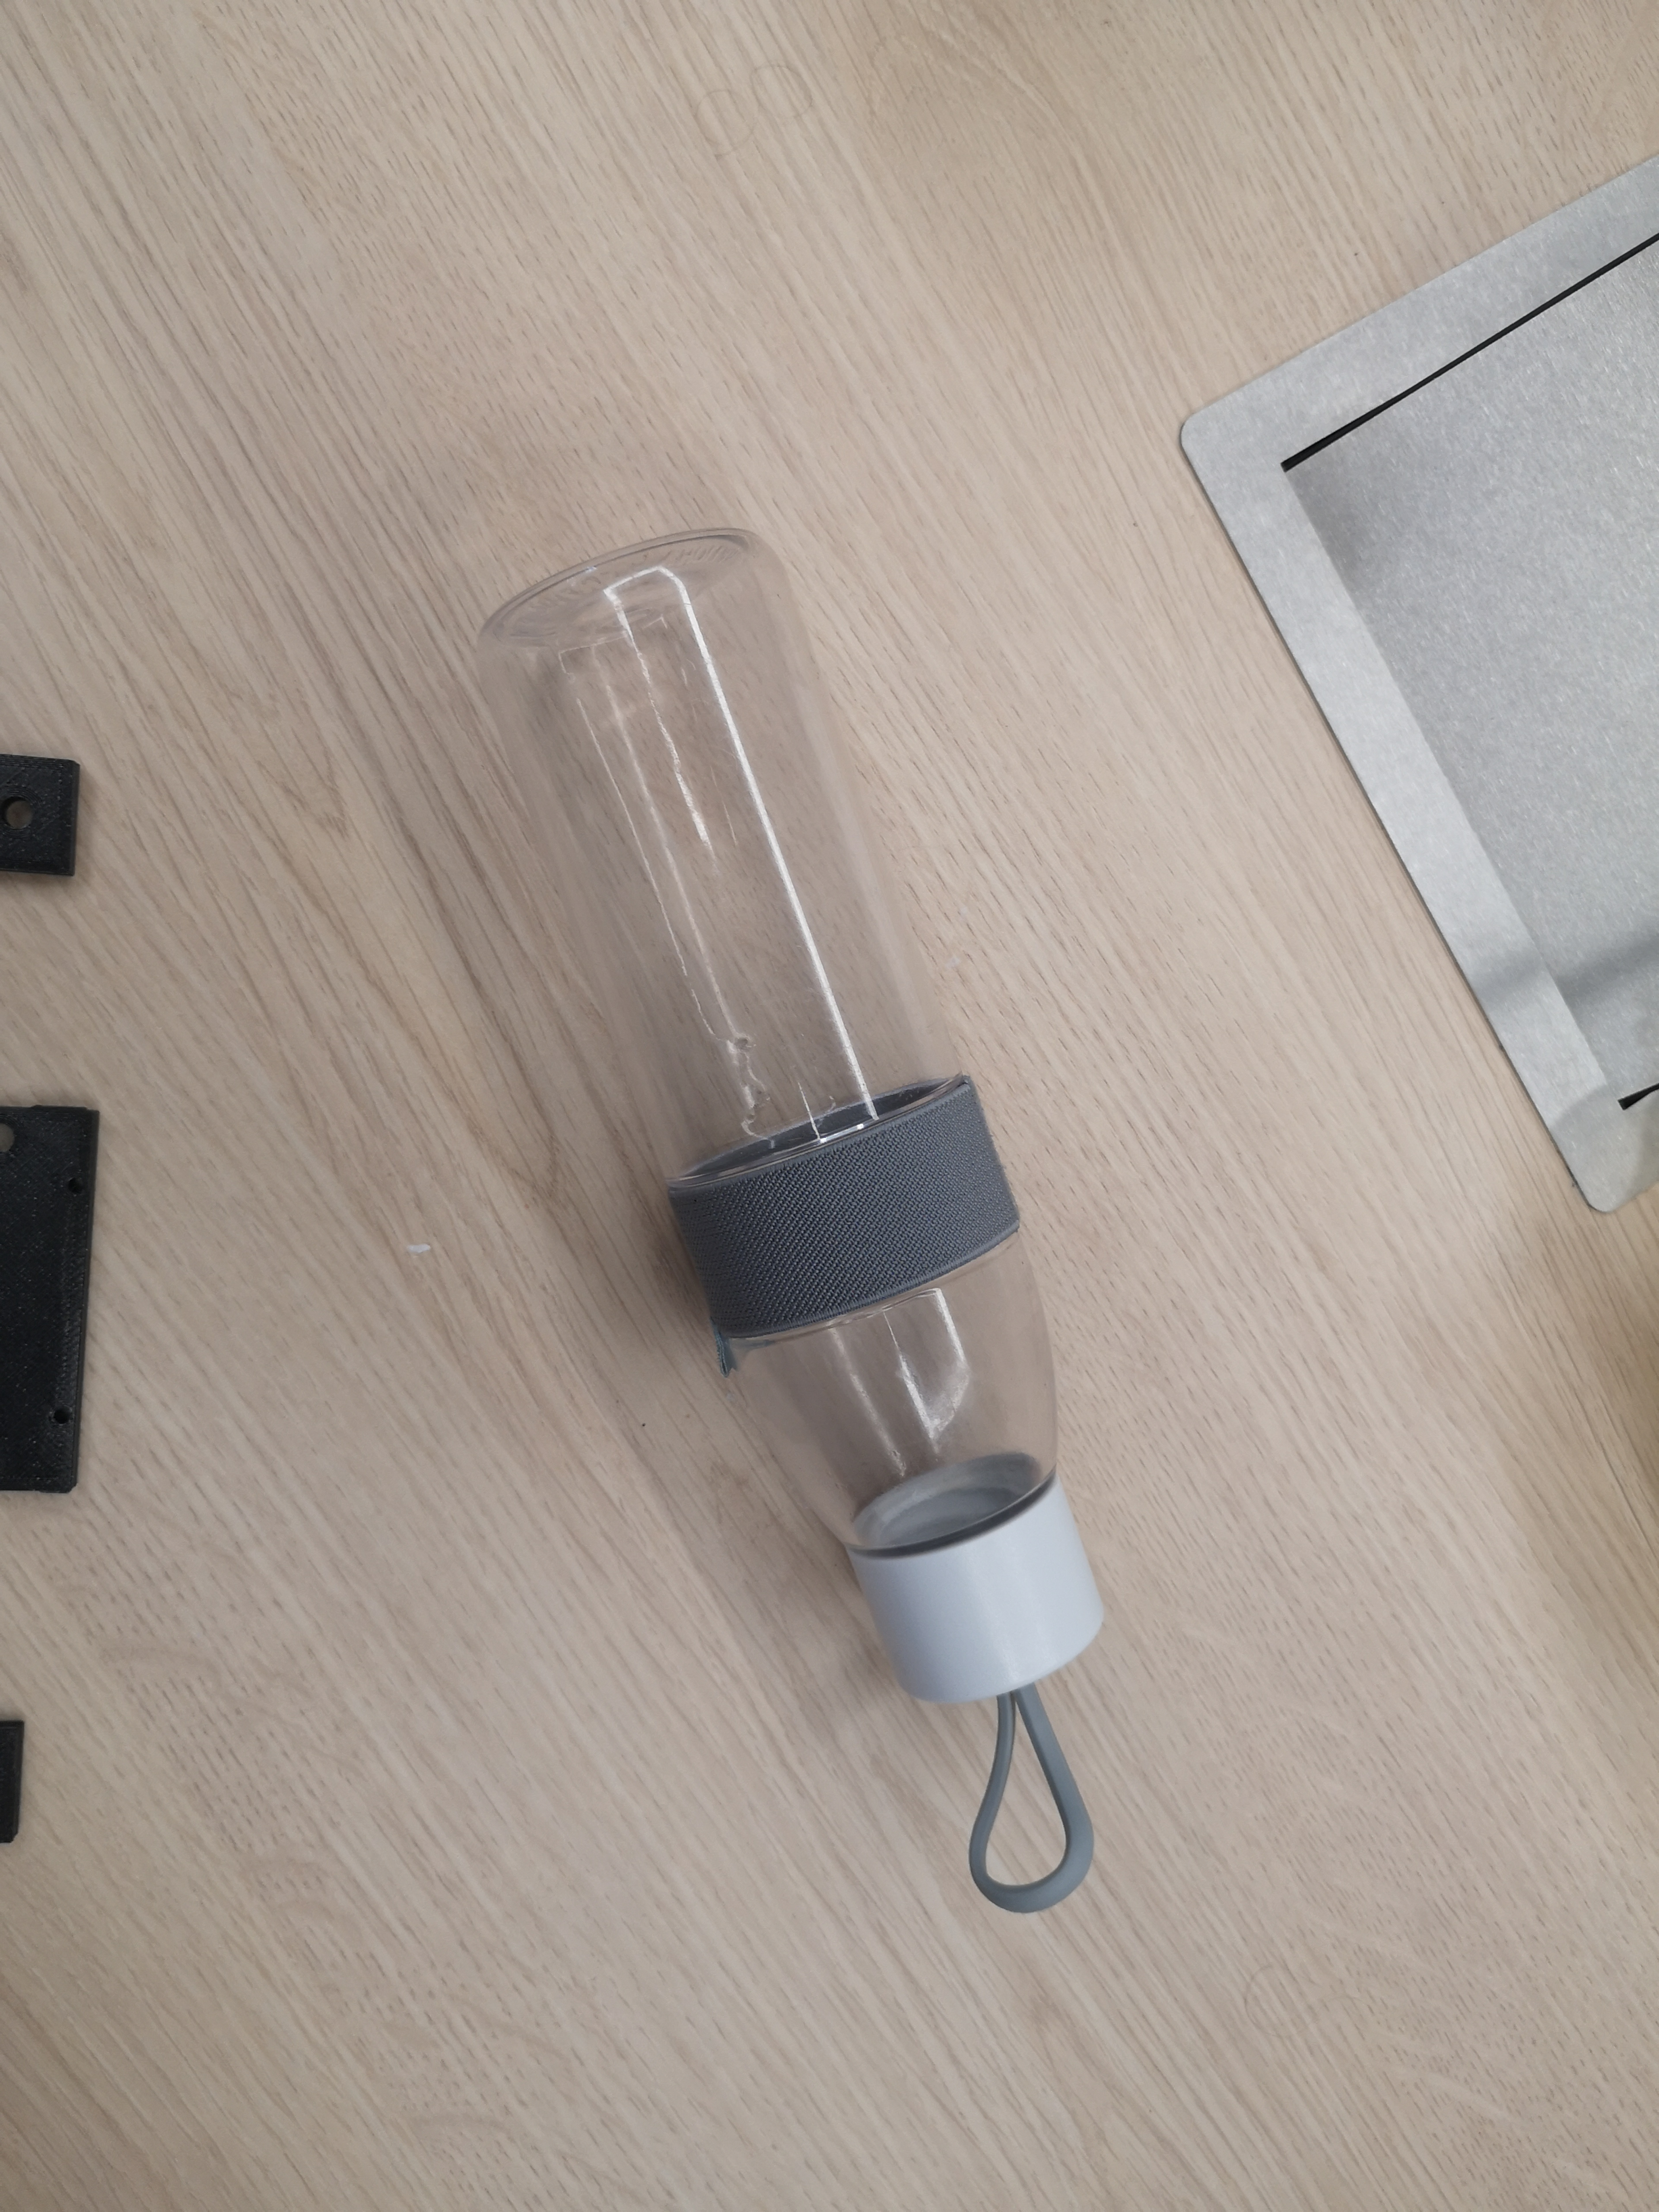plastic_bottle: (450, 500, 1199, 1752)
